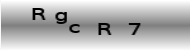7: (127, 22, 141, 36)
R: (31, 6, 46, 21), (97, 22, 112, 36)
c: (67, 23, 80, 33)
g: (53, 10, 67, 24)
